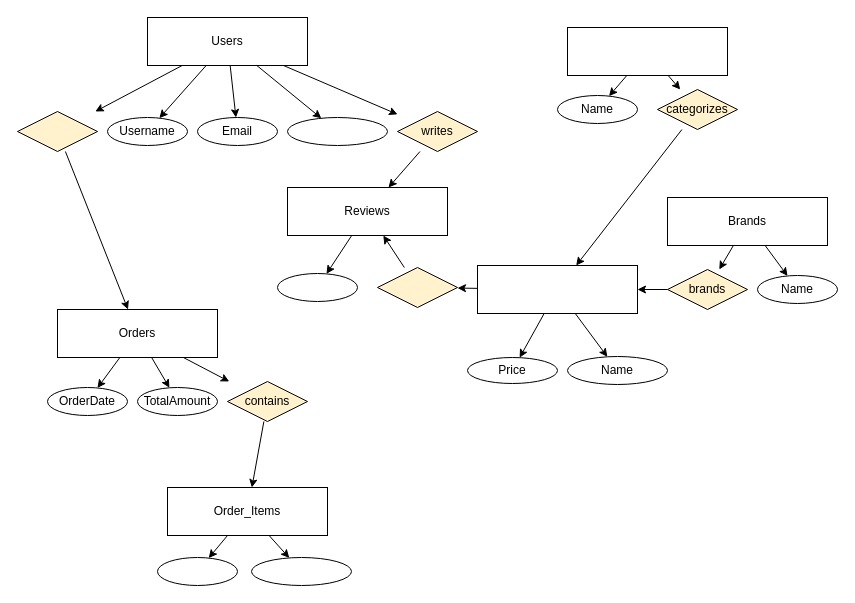
Some shapes in this 855 by 603 pixel diagram are drawn without their labels. Each missing label, with the centre of its shape:
Categories: (x=647, y=51)
DefaultAddress: (x=337, y=131)
places: (x=57, y=131)
PricePerItem: (x=301, y=571)
Products: (x=557, y=289)
Quantity: (x=197, y=571)
Rating: (x=317, y=287)
reviewed_in: (x=417, y=287)
